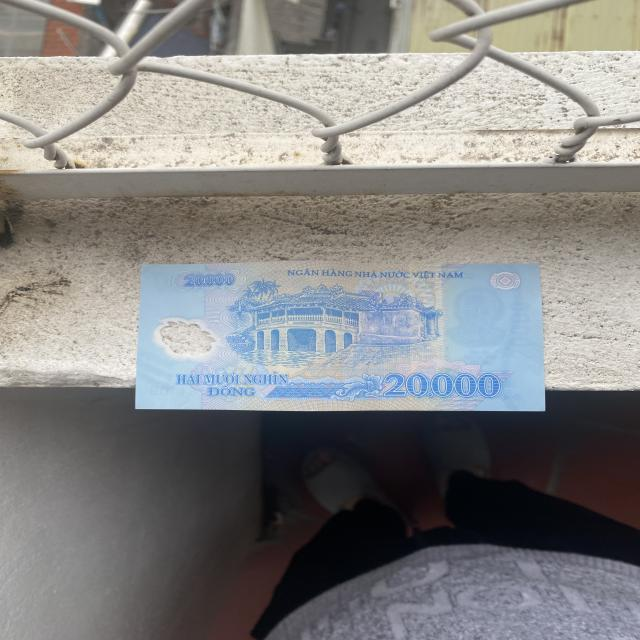20 000 VND: (133, 260, 548, 413)
